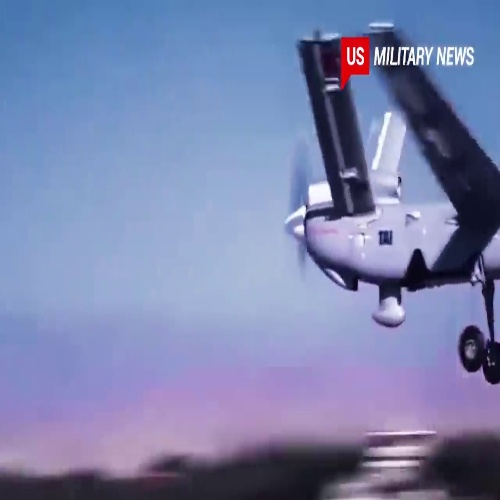uav713: (282, 16, 500, 383)
